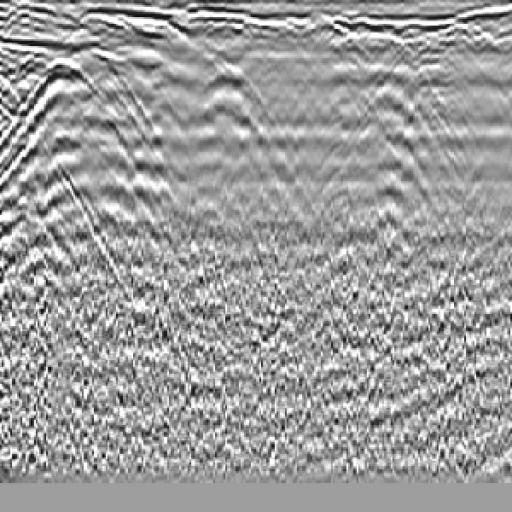non-metallic: (1, 47, 151, 267), (169, 52, 311, 239)
